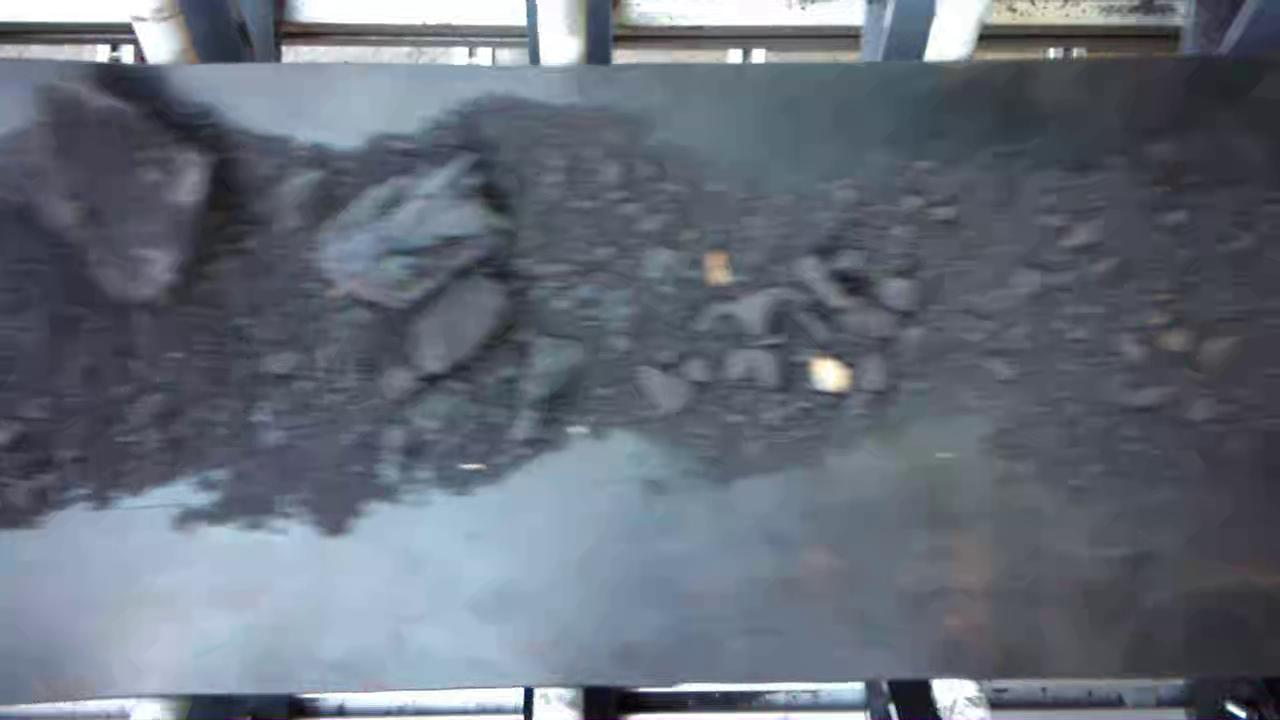conveyor: (6, 69, 1280, 667)
